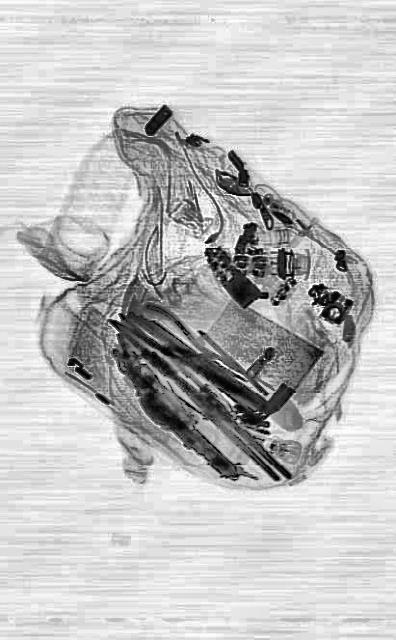Pliers: (134, 298, 254, 408)
